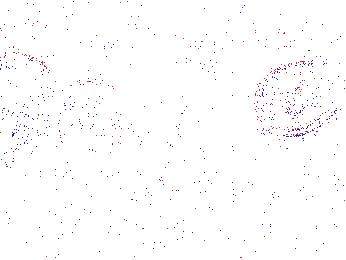moon jellyfish: (253, 60, 346, 138), (133, 45, 209, 122), (1, 51, 61, 137), (44, 81, 133, 125)
